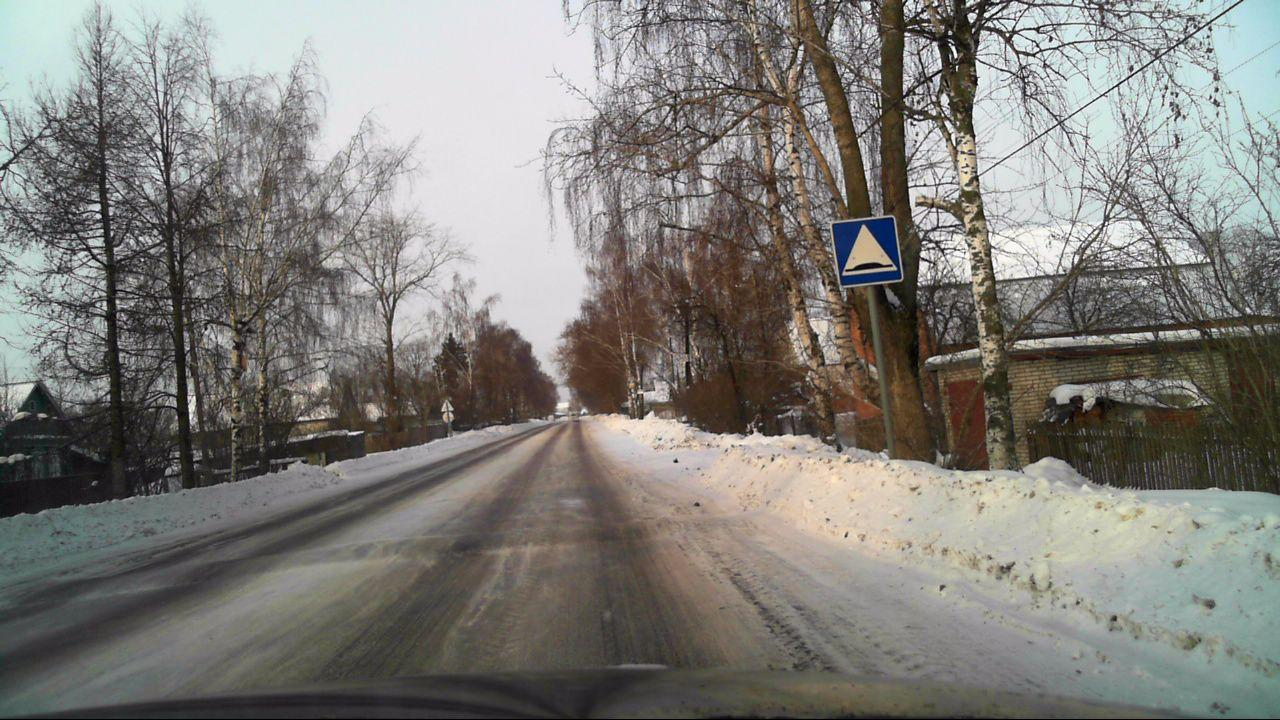5_20: (828, 215, 903, 289)
